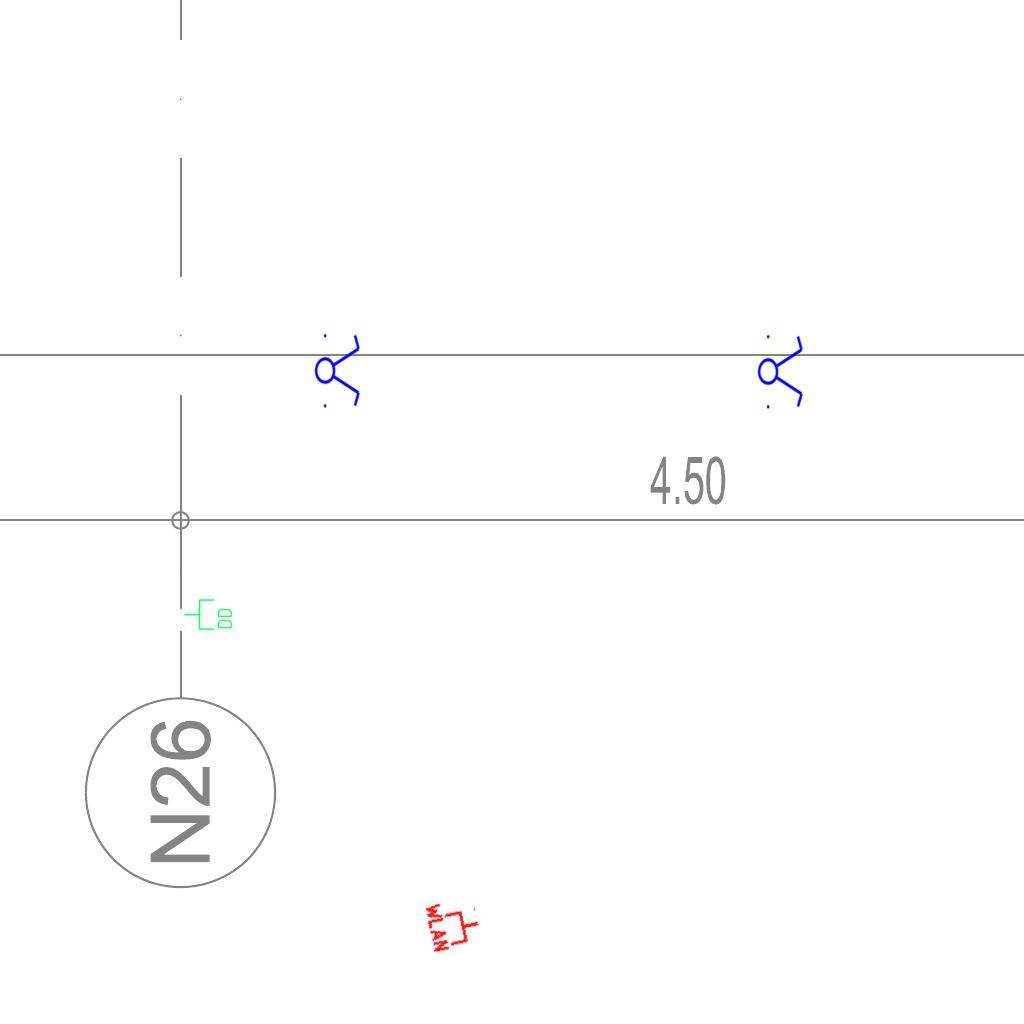Datenanschluss_zweifach: (183, 598, 234, 632)
Serienschalter: (314, 328, 362, 412), (757, 329, 805, 413)
WLAN: (423, 893, 485, 955)
